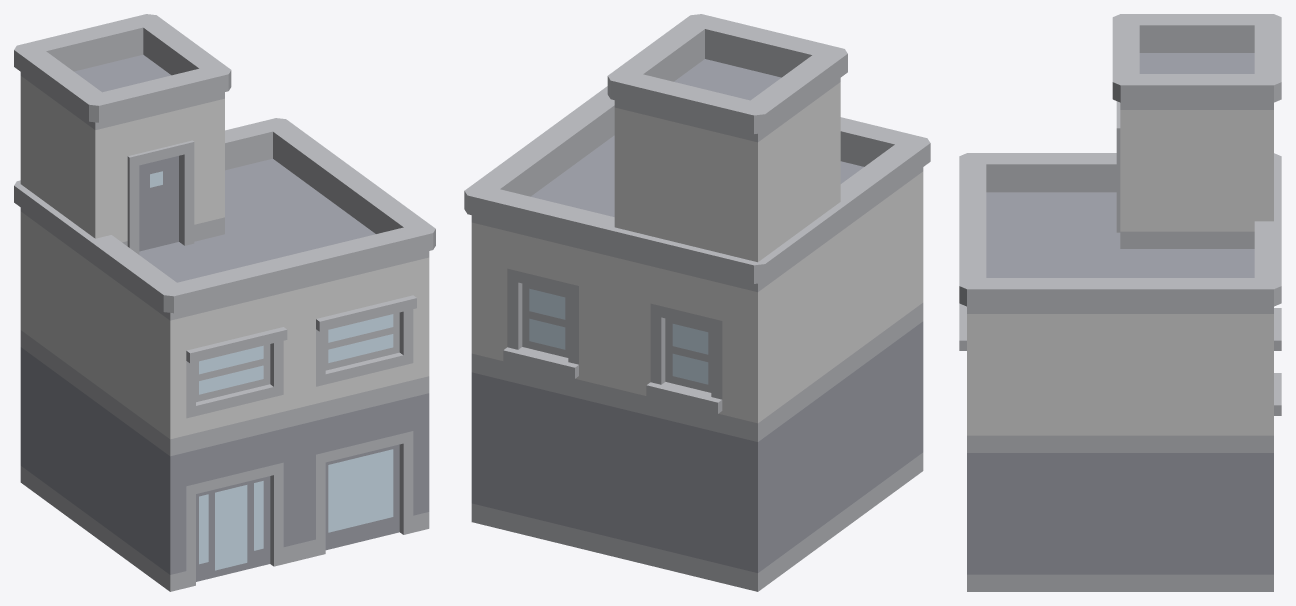
File: small_buildingF.glb
3 renders of one model, left to right at view 1: azimuth 30°, elevation 25°; view 2: azimuth 150°, elevation 25°; view 3: azimuth 270°, elevation 25°, orthographic. The views are drawn at different scales.
Parts seen in each view (by area): view 1: small_buildingF; view 2: small_buildingF; view 3: small_buildingF.
Part boxes in pixels (box(x1,y1,x2,y2)): small_buildingF: box(14, 14, 435, 591); small_buildingF: box(464, 14, 930, 591); small_buildingF: box(959, 14, 1281, 591).
Bounding box in the file's own units: 6.29 × 9.58 × 6.29.
